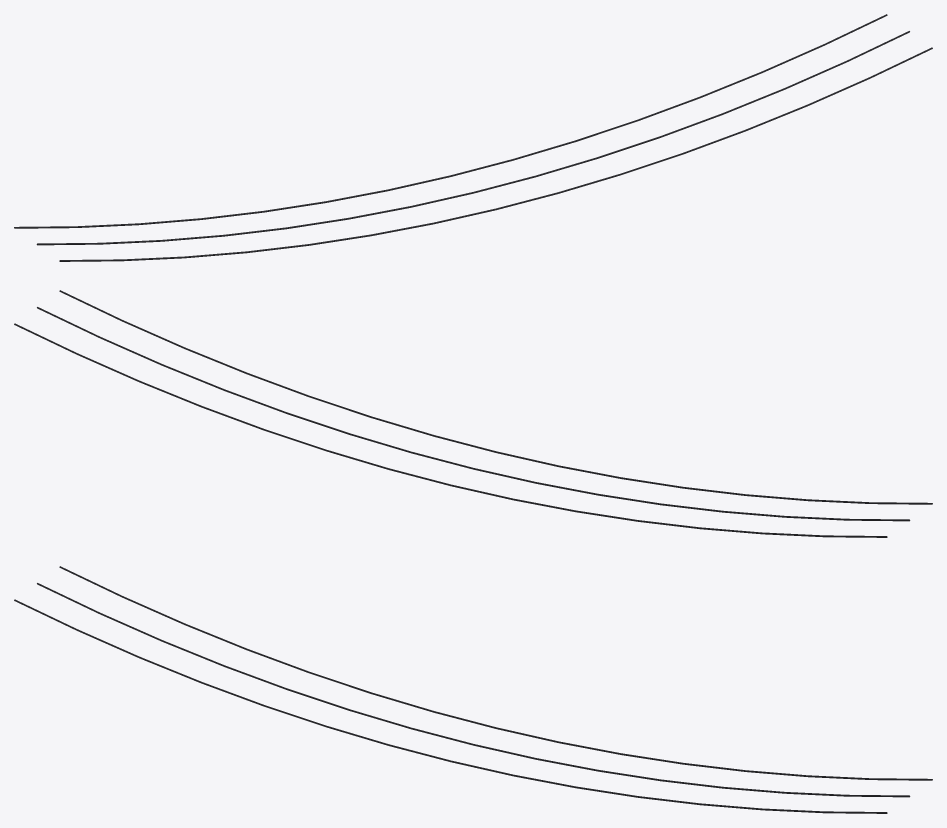
File: power_wire_span.glb
The picture shows the model from 3 angles, top to bottom: view 1: azimuth 30°, elevation 25°; view 2: azimuth 150°, elevation 25°; view 3: azimuth 330°, elevation 25°; orthographic projection.
Visible parts, largest first — view 1: power_wire_span; view 2: power_wire_span; view 3: power_wire_span.
Part boxes in pixels (x1,y1,x2,y2): power_wire_span: (14,14,932,261); power_wire_span: (14,290,932,537); power_wire_span: (14,566,932,813).
Size of the model in its own units: 20.01 by 1.24 by 1.84.
Materials: 1 (1 with a texture image).
